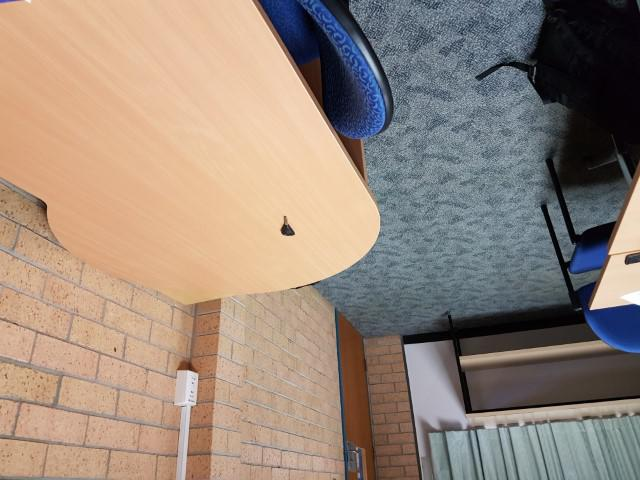key: (279, 213, 296, 237)
